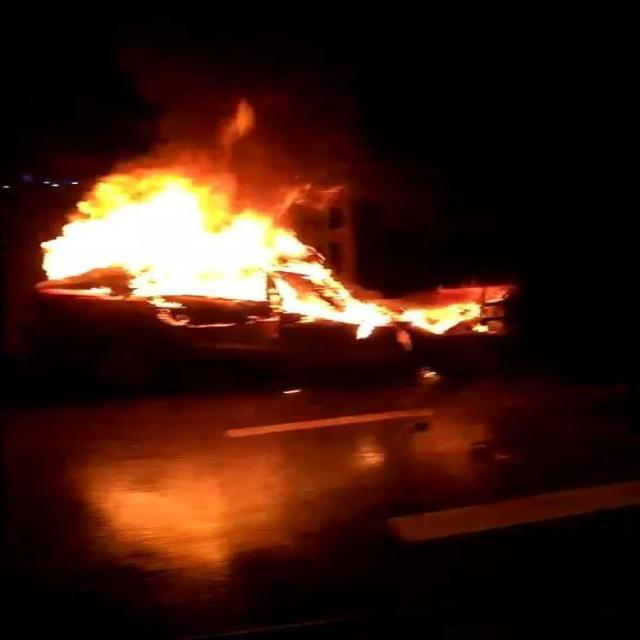Fire: (36, 174, 312, 300), (289, 282, 470, 341)
